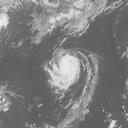cyclone: (48, 54, 82, 92)
